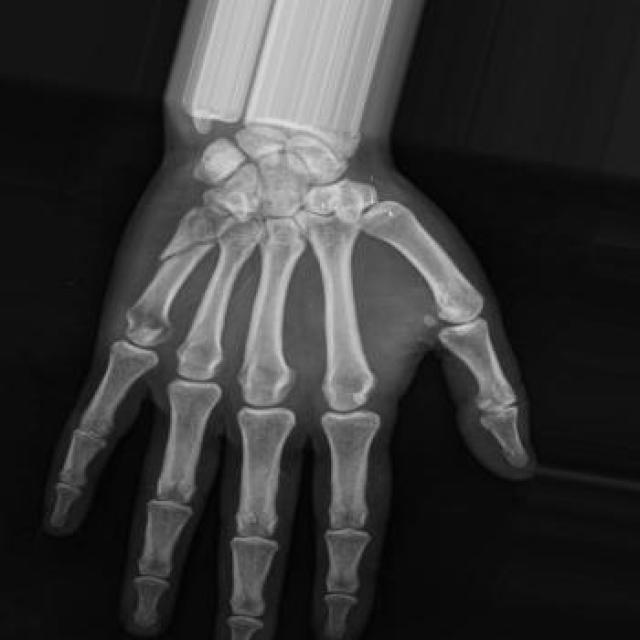Fracture: (149, 234, 226, 265)
